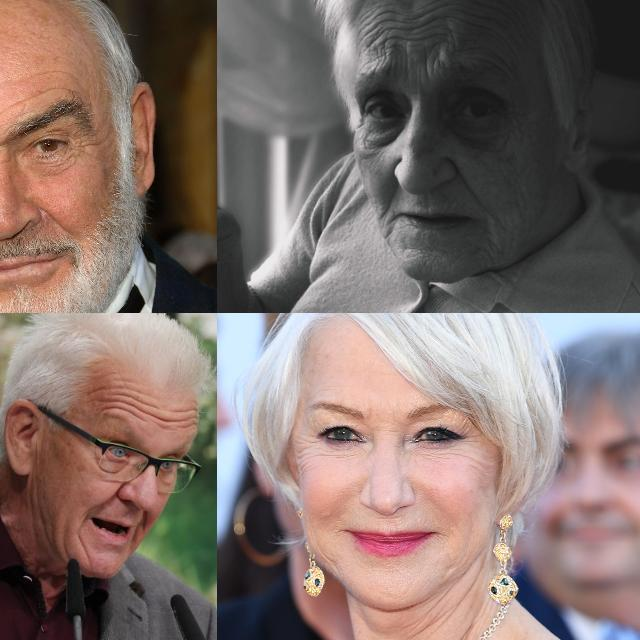chin: (482, 239, 501, 263)
crows_feet: (70, 132, 98, 160), (464, 428, 484, 464), (298, 428, 320, 460)
forehead: (100, 384, 142, 418), (30, 59, 76, 87), (155, 404, 197, 432), (14, 81, 58, 103), (362, 17, 383, 57), (449, 0, 477, 30), (419, 1, 441, 38), (491, 48, 515, 80), (390, 8, 412, 40)
frown_line: (398, 44, 412, 76), (421, 55, 434, 79)
gummy_smile: (454, 172, 484, 208), (42, 205, 78, 233), (379, 192, 397, 218)
masseter: (27, 484, 55, 544), (448, 556, 476, 586), (314, 545, 340, 571)
sad_smile: (78, 517, 92, 561)
smoker_lines: (374, 514, 408, 526)
